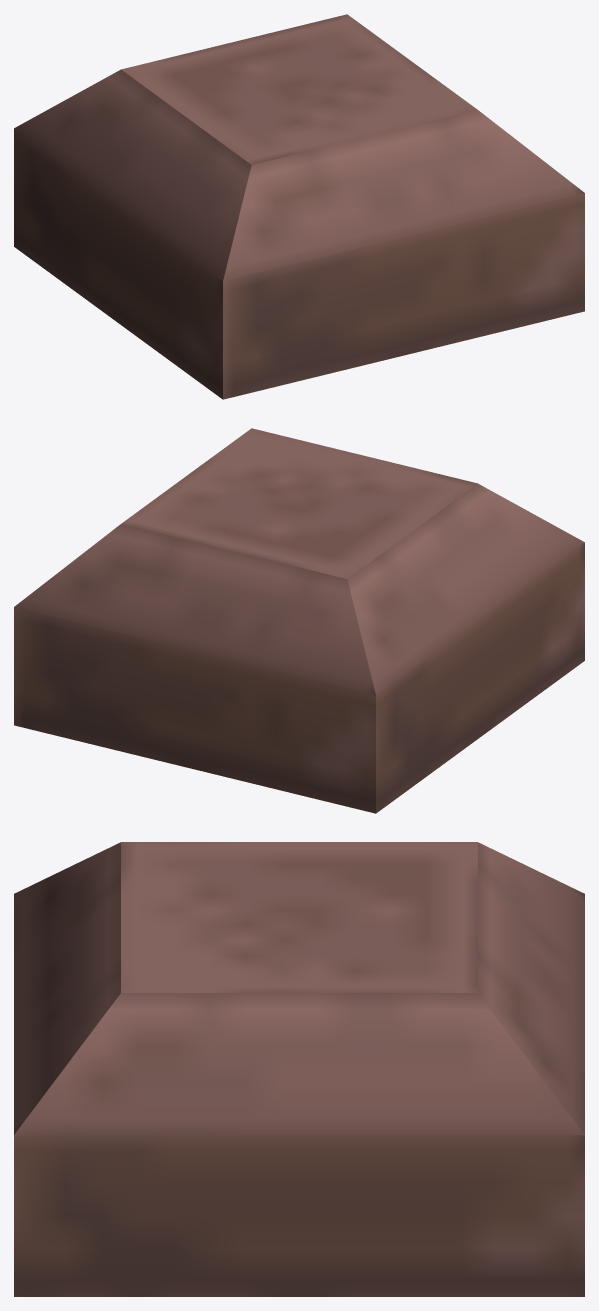
The model's file is pillar_foot_type_02_red.fbx.
3 renders of one model, top to bottom at view 1: azimuth 30°, elevation 25°; view 2: azimuth 150°, elevation 25°; view 3: azimuth 270°, elevation 25°, orthographic. The views are drawn at different scales.
Visible parts, largest first — view 1: pillar_foot_type_02_red; view 2: pillar_foot_type_02_red; view 3: pillar_foot_type_02_red.
Part boxes in pixels (box(x1,y1,x2,y2)): pillar_foot_type_02_red: box(14, 14, 584, 399); pillar_foot_type_02_red: box(14, 428, 584, 813); pillar_foot_type_02_red: box(14, 842, 584, 1296).
Bounding box in the file's own units: 16 × 8 × 16.
